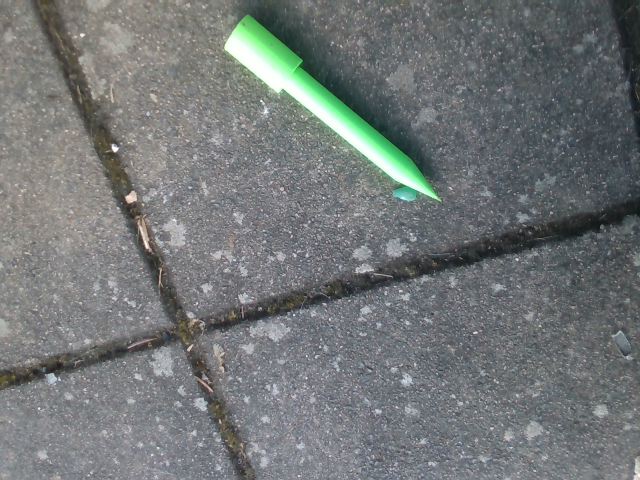Probe: (217, 10, 446, 209)
